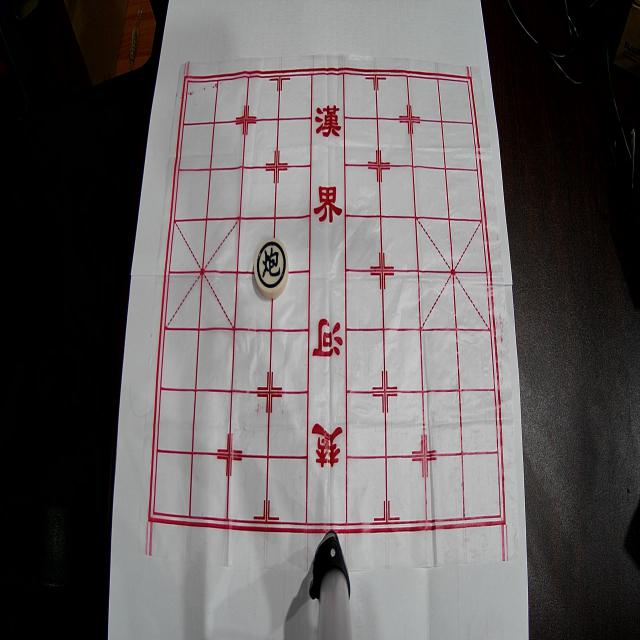black-cannon: (254, 238, 289, 299)
